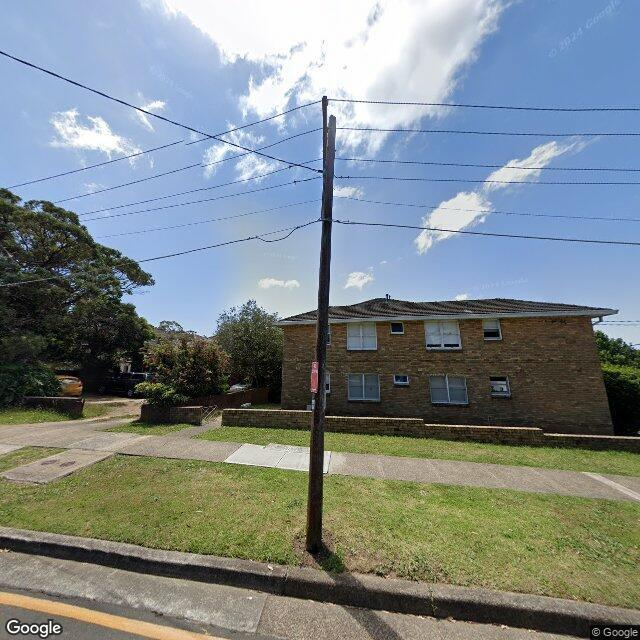crossarm: (322, 96, 332, 172)
timber-pole: (306, 114, 338, 550)
